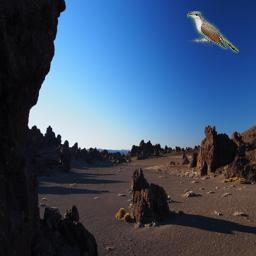Cuckoo: (187, 11, 239, 53)
